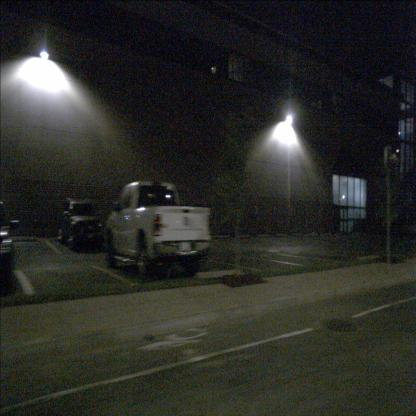vehicle-car: (59, 196, 104, 251), (0, 201, 14, 286)
vehicle-truck: (102, 179, 212, 279)
